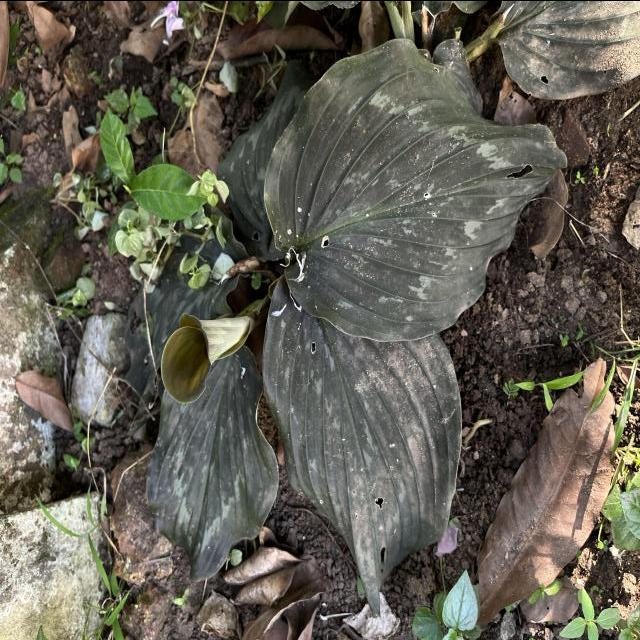Kaempferia galanga linn: (260, 34, 570, 344), (260, 270, 465, 621)
